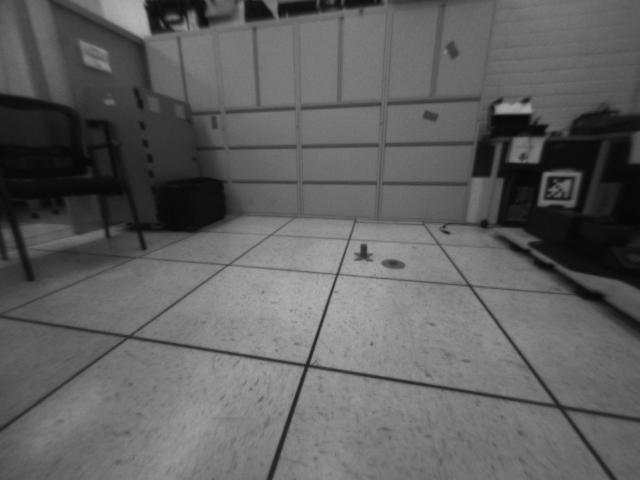X: (353, 243, 375, 263)
